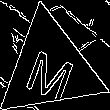M_N: (21, 35, 79, 99)
